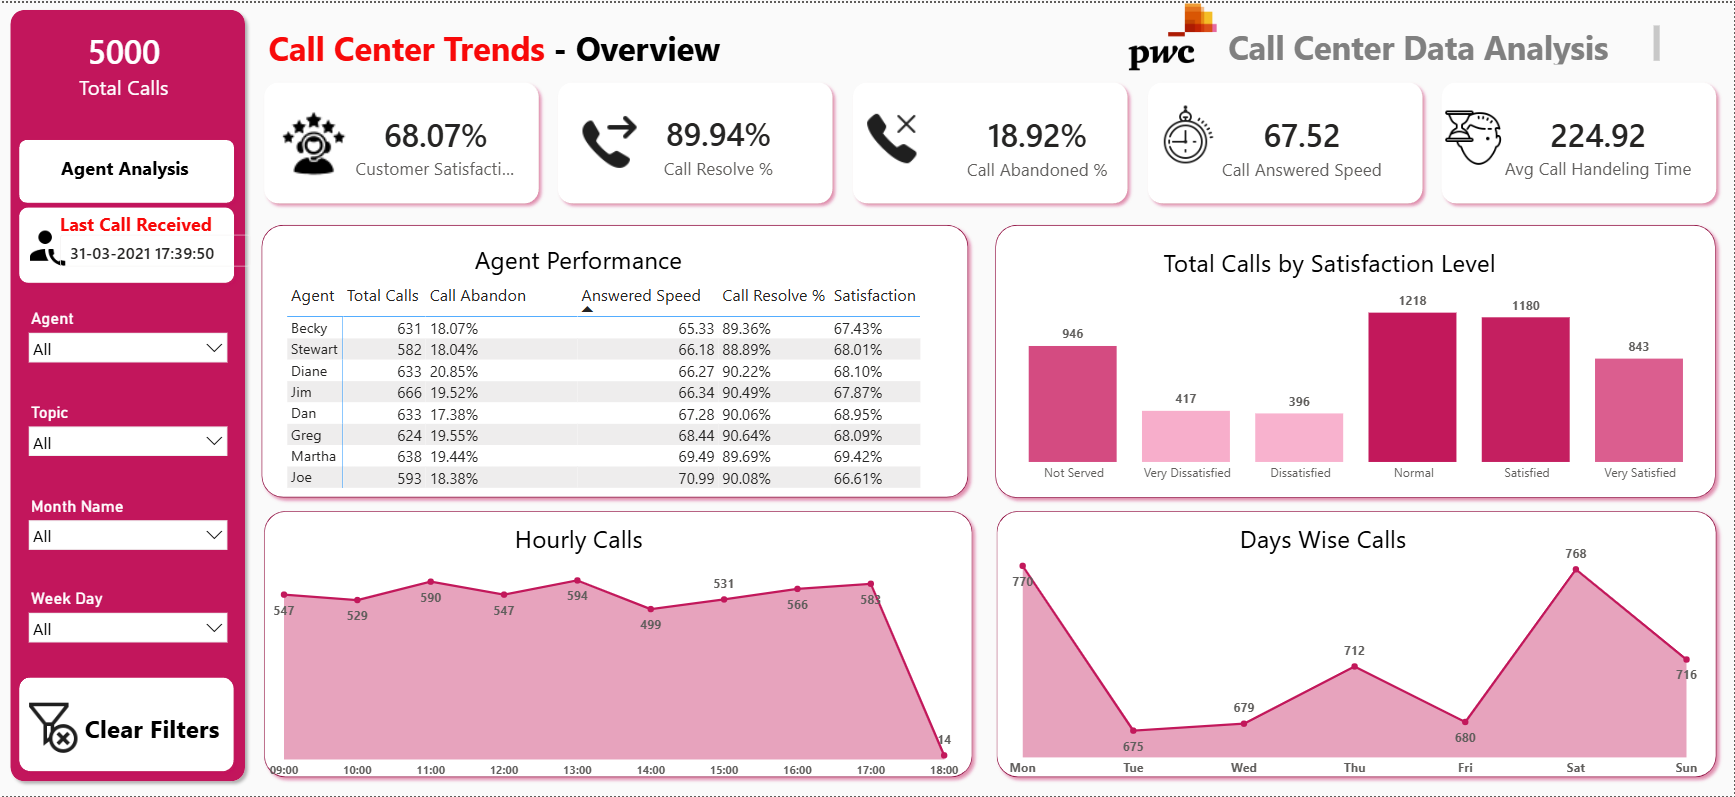

What the dashboard file says about the page in this screenshot:
{"tool":"powerbi","page":{"name":"Dashboard","canvas":[2280,1040],"ordinal":0},"visuals":[{"type":"shape","box":[1301.8,282.6,962.6,376.2],"z":0},{"type":"shape","box":[338.8,282.3,944.8,375.7],"z":1000},{"type":"shape","box":[343.2,658.1,946.9,367],"z":2000},{"type":"shape","box":[1303.1,658.1,962.1,367],"z":3000},{"type":"shape","box":[9.8,0,325.8,1029.7],"z":4000},{"type":"shape","box":[1887.5,94.9,378.1,176.8],"z":5000},{"type":"shape","box":[342.1,94.9,378.1,176.8],"z":6000},{"type":"shape","box":[728.5,94.9,378.1,176.8],"z":7000},{"type":"shape","box":[1114.8,94.9,378.1,176.8],"z":8000},{"type":"shape","box":[1501.1,94.9,378.1,176.8],"z":9000},{"type":"image","box":[336.6,136.8,160.7,95.6],"z":10000},{"type":"image","box":[721.1,139,160.7,89],"z":11000},{"type":"image","box":[1083.8,141.2,182.4,73.8],"z":12000},{"type":"image","box":[1481.2,134.7,160.7,76],"z":13000},{"type":"image","box":[1856.9,141.2,160.7,73.8],"z":14000},{"type":"shape","box":[21.6,170.1,299.9,100.6],"z":15000},{"type":"shape","box":[21.6,259.7,299.9,117],"z":16000},{"type":"image","box":[18.3,292.6,93.3,53],"z":17000},{"type":"textbox","box":[78.6,268.8,219.4,49.4],"z":18000},{"type":"textbox","box":[80.5,195.7,195.7,49.4],"z":19000},{"type":"image","box":[1444.3,0,197.6,89],"z":20000},{"type":"textbox","box":[1611.5,23.9,575.5,60.8],"z":21000},{"type":"textbox","box":[351.8,23.9,645,95.6],"z":22000},{"type":"cardVisual","fields":{"Data":["All Measure.Total Calls"]},"box":[36.9,15.2,260.6,130.3],"z":23000},{"type":"cardVisual","fields":{"Data":["All Measure.Call Resolve %"]},"box":[792.7,104.2,308.4,165.1],"z":24000},{"type":"cardVisual","fields":{"Data":["All Measure.Call Abandoned %"]},"box":[1203.2,123.8,325.8,128.1],"z":25000},{"type":"cardVisual","fields":{"Data":["All Measure.Call Answered Speed"]},"box":[1568.1,117.3,288.9,141.2],"z":26000},{"type":"cardVisual","fields":{"Data":["All Measure.Avg Call Handeling Time"]},"box":[1937.3,110.8,327.9,152],"z":27000},{"type":"cardVisual","fields":{"Data":["All Measure.Customer Satisfaction"]},"box":[443.1,117.3,268.8,140.8],"z":28000},{"type":"pivotTable","fields":{"Values":["All Measure.Total Calls","All Measure.Call Abandoned %","All Measure.Call Answered Speed","All Measure.Call Resolve %","All Measure.Customer Satisfaction"],"Rows":["Calls.agent"]},"box":[377.3,360.8,860.9,294.9],"z":29000},{"type":"lineChart","fields":{"Category":["Calls.Hour"],"Y":["All Measure.Total Calls"]},"box":[334.6,738.8,952.7,287.1],"z":30000},{"type":"lineChart","fields":{"Y":["All Measure.Total Calls"],"Category":["Calls.Day Name"]},"box":[1283.6,701.6,996.7,323],"z":31000},{"type":"clusteredColumnChart","fields":{"Y":["All Measure.Total Calls"],"Category":["Calls.Satisfaction Level"]},"box":[1290.1,362.7,990.4,275.8],"z":32000},{"type":"cardVisual","fields":{"Data":["All Measure.Last Call"]},"box":[67.3,286.7,284.5,76],"z":33000},{"type":"slicer","fields":{"Values":["Calls.agent"]},"box":[33,397.4,280.2,95.6],"z":34000},{"type":"slicer","fields":{"Values":["Calls.topic"]},"box":[33,519.8,280.2,95.6],"z":35000},{"type":"slicer","fields":{"Values":["Calls.Month Name"]},"box":[33,642.1,280.2,95.6],"z":36000},{"type":"slicer","fields":{"Values":["Calls.Day Name"]},"box":[33,764.5,280.2,95.6],"z":37000},{"type":"textbox","box":[675.4,675.4,271.5,52.1],"z":38000},{"type":"textbox","box":[1626.7,675.4,273.7,63],"z":39000},{"type":"textbox","box":[1526.8,312.7,453.9,65.2],"z":40000},{"type":"textbox","box":[623.3,310.6,373.6,65.2],"z":41000},{"type":"shape","box":[21.4,874.8,299.4,141.2],"z":43000},{"type":"image","box":[21.4,909,96.2,74.9],"z":43500,"group":"g1"},{"type":"textbox","box":[111,925.5,195.6,64],"z":43501,"group":"g1"},{"type":"group","id":"g1","title":"Group 1","box":[21.4,909,285.2,80.5],"z":43502}]}

Visuals, with their boxes in screenshot pixels (x1, y1, x2, y2), scaled from the page's 2280x1040 canvas onto the 1735x797 screenshot:
shape: {"x1": 991, "y1": 217, "x2": 1723, "y2": 505}
shape: {"x1": 258, "y1": 216, "x2": 977, "y2": 504}
shape: {"x1": 261, "y1": 504, "x2": 982, "y2": 786}
shape: {"x1": 992, "y1": 504, "x2": 1724, "y2": 786}
shape: {"x1": 7, "y1": 0, "x2": 255, "y2": 789}
shape: {"x1": 1436, "y1": 73, "x2": 1724, "y2": 208}
shape: {"x1": 260, "y1": 73, "x2": 548, "y2": 208}
shape: {"x1": 554, "y1": 73, "x2": 842, "y2": 208}
shape: {"x1": 848, "y1": 73, "x2": 1136, "y2": 208}
shape: {"x1": 1142, "y1": 73, "x2": 1430, "y2": 208}
image: {"x1": 256, "y1": 105, "x2": 378, "y2": 178}
image: {"x1": 549, "y1": 107, "x2": 671, "y2": 175}
image: {"x1": 825, "y1": 108, "x2": 964, "y2": 165}
image: {"x1": 1127, "y1": 103, "x2": 1249, "y2": 161}
image: {"x1": 1413, "y1": 108, "x2": 1535, "y2": 165}
shape: {"x1": 16, "y1": 130, "x2": 245, "y2": 207}
shape: {"x1": 16, "y1": 199, "x2": 245, "y2": 289}
image: {"x1": 14, "y1": 224, "x2": 85, "y2": 265}
textbox: {"x1": 60, "y1": 206, "x2": 227, "y2": 244}
textbox: {"x1": 61, "y1": 150, "x2": 210, "y2": 188}
image: {"x1": 1099, "y1": 0, "x2": 1249, "y2": 68}
textbox: {"x1": 1226, "y1": 18, "x2": 1664, "y2": 65}
textbox: {"x1": 268, "y1": 18, "x2": 759, "y2": 92}
cardVisual - All Measure.Total Calls: {"x1": 28, "y1": 12, "x2": 226, "y2": 112}
cardVisual - All Measure.Call Resolve %: {"x1": 603, "y1": 80, "x2": 838, "y2": 206}
cardVisual - All Measure.Call Abandoned %: {"x1": 916, "y1": 95, "x2": 1164, "y2": 193}
cardVisual - All Measure.Call Answered Speed: {"x1": 1193, "y1": 90, "x2": 1413, "y2": 198}
cardVisual - All Measure.Avg Call Handeling Time: {"x1": 1474, "y1": 85, "x2": 1724, "y2": 201}
cardVisual - All Measure.Customer Satisfaction: {"x1": 337, "y1": 90, "x2": 542, "y2": 198}
pivotTable - All Measure.Total Calls x All Measure.Call Abandoned %: {"x1": 287, "y1": 276, "x2": 942, "y2": 502}
lineChart - Calls.Hour x All Measure.Total Calls: {"x1": 255, "y1": 566, "x2": 980, "y2": 786}
lineChart - All Measure.Total Calls x Calls.Day Name: {"x1": 977, "y1": 538, "x2": 1734, "y2": 785}
clusteredColumnChart - All Measure.Total Calls x Calls.Satisfaction Level: {"x1": 982, "y1": 278, "x2": 1734, "y2": 489}
cardVisual - All Measure.Last Call: {"x1": 51, "y1": 220, "x2": 268, "y2": 278}
slicer - Calls.agent: {"x1": 25, "y1": 305, "x2": 238, "y2": 378}
slicer - Calls.topic: {"x1": 25, "y1": 398, "x2": 238, "y2": 472}
slicer - Calls.Month Name: {"x1": 25, "y1": 492, "x2": 238, "y2": 565}
slicer - Calls.Day Name: {"x1": 25, "y1": 586, "x2": 238, "y2": 659}
textbox: {"x1": 514, "y1": 518, "x2": 721, "y2": 558}
textbox: {"x1": 1238, "y1": 518, "x2": 1446, "y2": 566}
textbox: {"x1": 1162, "y1": 240, "x2": 1507, "y2": 290}
textbox: {"x1": 474, "y1": 238, "x2": 759, "y2": 288}
shape: {"x1": 16, "y1": 670, "x2": 244, "y2": 779}
image: {"x1": 16, "y1": 697, "x2": 89, "y2": 754}
textbox: {"x1": 84, "y1": 709, "x2": 233, "y2": 758}
"Group 1" group: {"x1": 16, "y1": 697, "x2": 233, "y2": 758}
